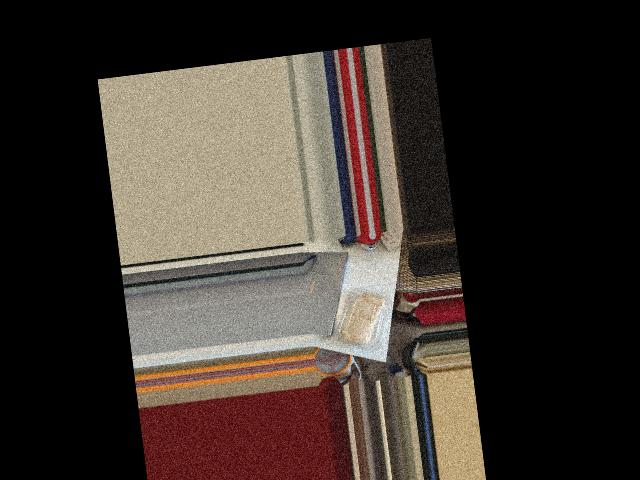cheese: (330, 282, 397, 359)
